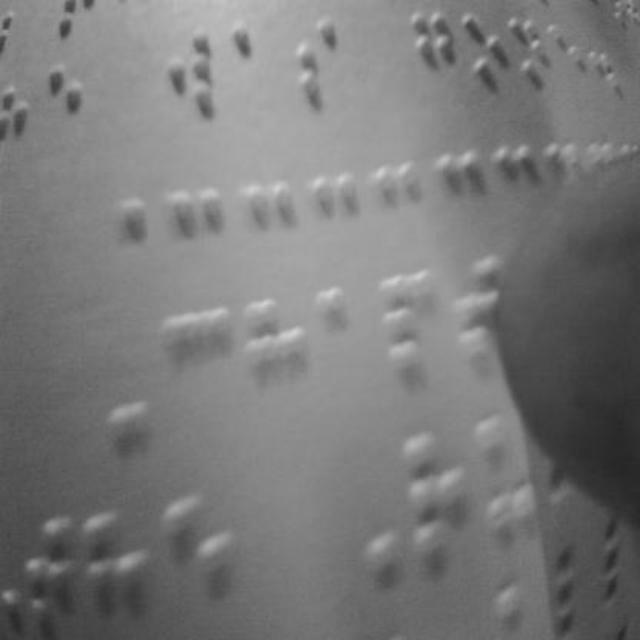braiile: (15, 484, 90, 640), (87, 490, 163, 640), (168, 486, 242, 634), (404, 424, 470, 562), (382, 257, 448, 389), (242, 290, 302, 420), (316, 274, 376, 402), (166, 13, 224, 125), (291, 8, 347, 112), (44, 52, 94, 158), (228, 9, 276, 116), (414, 3, 461, 99), (464, 2, 510, 100)
